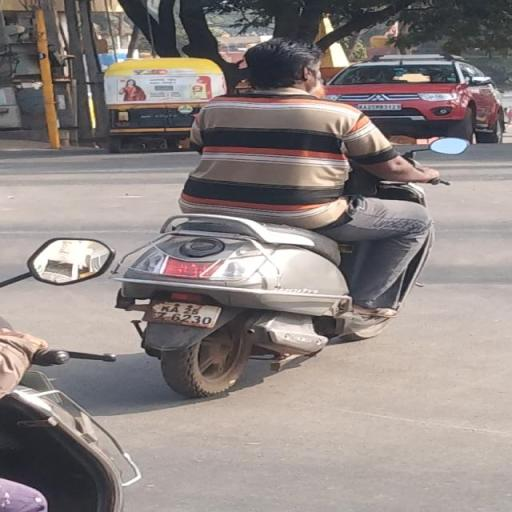bike: (112, 28, 476, 399)
numberplate: (139, 293, 227, 339)
withouthelmet: (246, 40, 320, 84)
